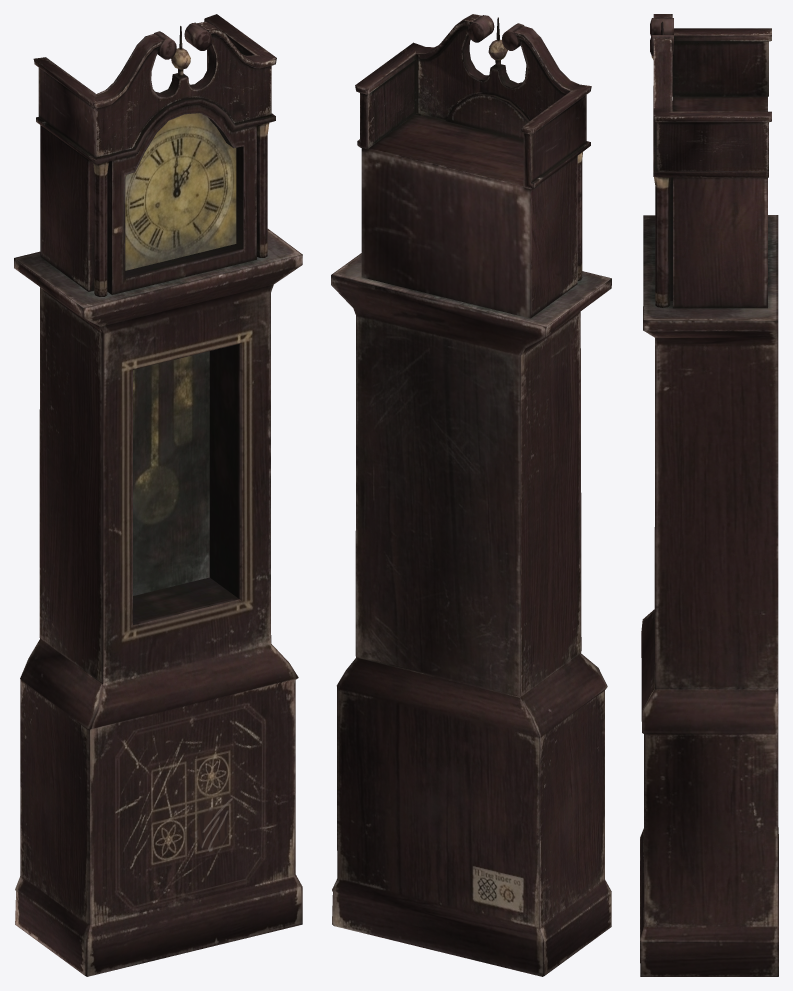
File: ClockFloorAct.fbx
3 renders of one model, left to right at view 1: azimuth 30°, elevation 25°; view 2: azimuth 150°, elevation 25°; view 3: azimuth 270°, elevation 25°, orthographic. The views are drawn at different scales.
Parts seen in each view (by area): view 1: ClockBase; view 2: ClockBase; view 3: ClockBase.
Part boxes in pixels (bbox=[...]): ClockBase: bbox=[14, 14, 302, 976]; ClockBase: bbox=[331, 14, 611, 976]; ClockBase: bbox=[640, 14, 778, 976].
Bounding box in the file's own units: 47.92 × 190 × 26.56.
Materials: 1 (1 with a texture image).
